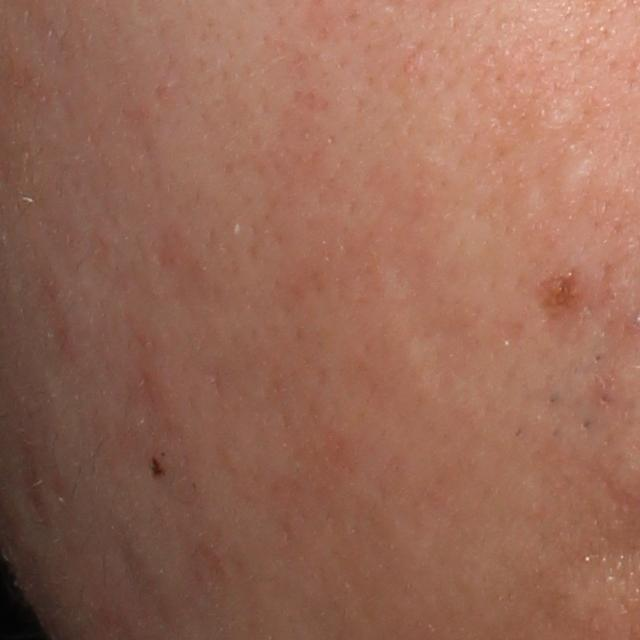nevus: (148, 456, 170, 481)
